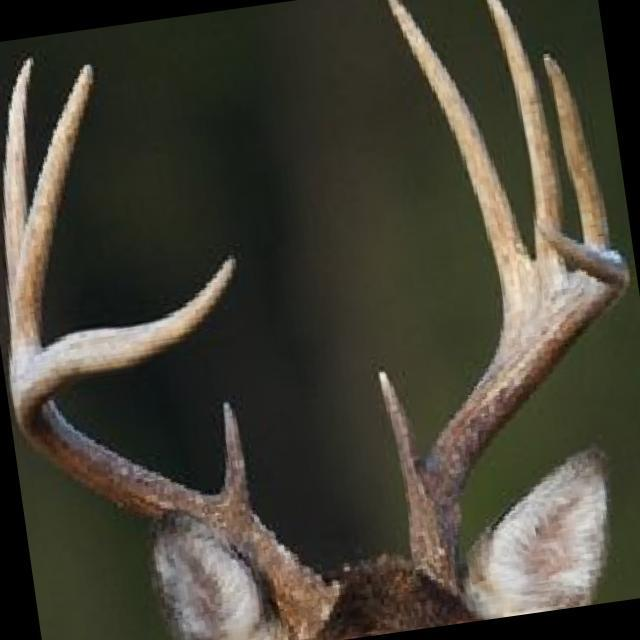L-F: (406, 218, 630, 599)
L-G1: (376, 366, 424, 501)
L-G2: (388, 0, 533, 292)
R-F: (13, 256, 341, 640)
R-G1: (215, 400, 254, 516)
R-G3: (10, 63, 96, 399)
